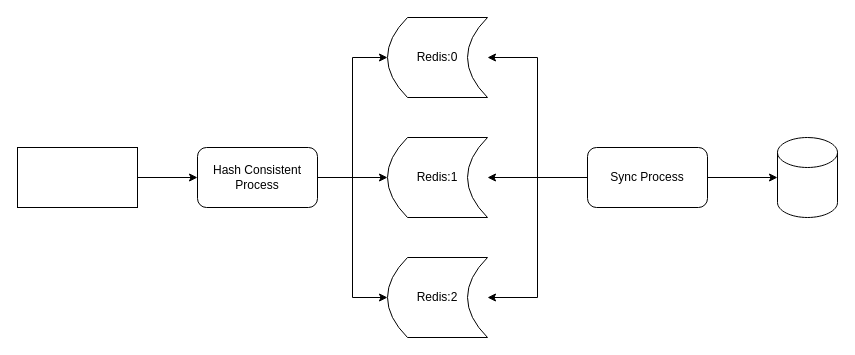
This 855x355 diagram has some shape labels left out. The centre of each missing label's shape, as x and y in pixels:
"DB" goes at point (807, 177).
"InMemory" goes at point (77, 177).
